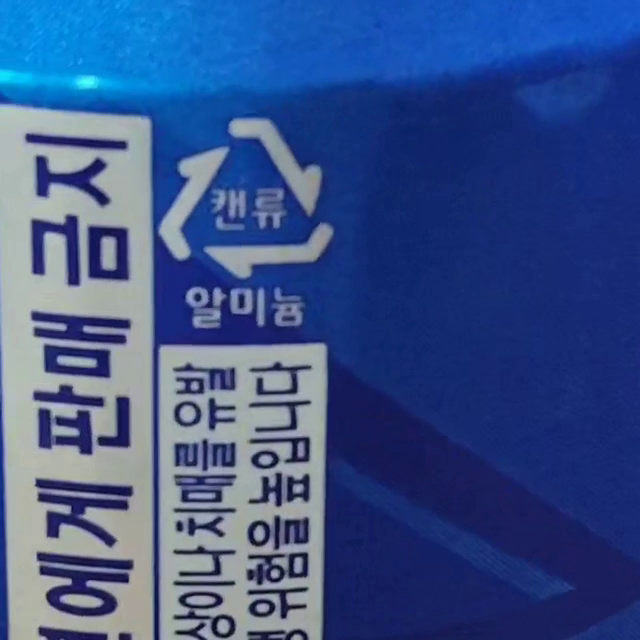Can: (158, 119, 335, 277)
